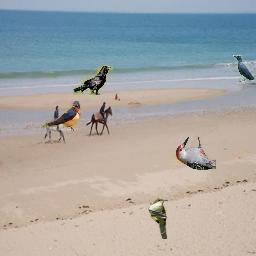Crow: (73, 65, 113, 95), (233, 55, 256, 85)
Cuckoo: (148, 199, 168, 239)
Swallow: (41, 101, 81, 131)
Woodpecker: (176, 137, 216, 170)
